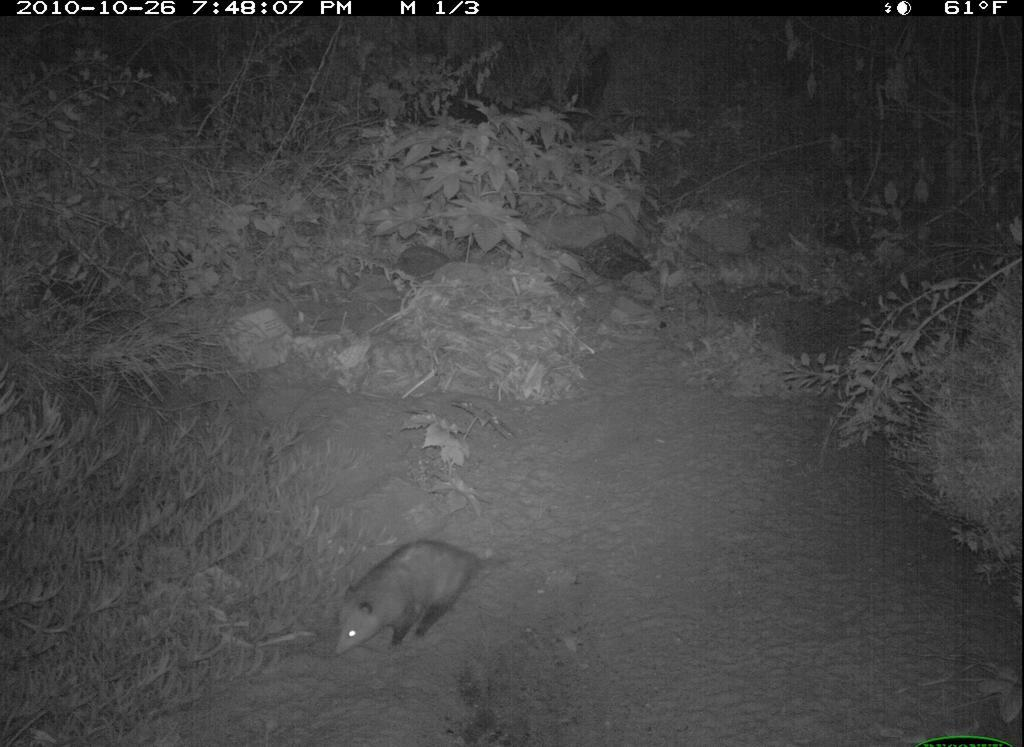opossum: (314, 533, 537, 666)
